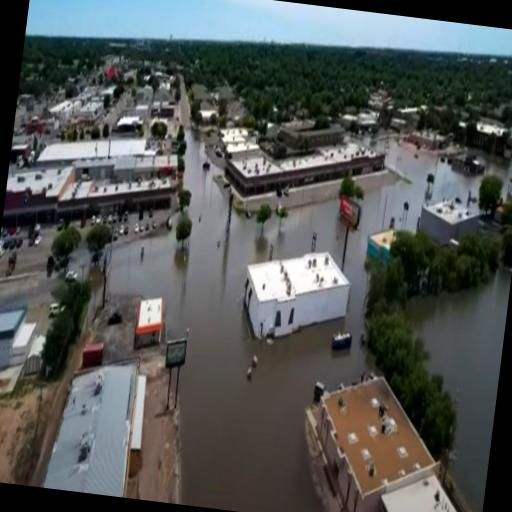flood: (109, 134, 436, 512), (407, 262, 512, 512), (361, 140, 437, 244), (433, 160, 482, 204), (185, 149, 203, 205), (497, 161, 512, 194)
house: (301, 365, 451, 512), (42, 346, 150, 498), (222, 125, 386, 214), (233, 238, 355, 354), (70, 138, 180, 202), (375, 462, 487, 512), (2, 160, 72, 233), (0, 295, 40, 399), (414, 195, 482, 255), (358, 220, 418, 286), (461, 115, 512, 162), (130, 293, 166, 353), (24, 334, 46, 382), (453, 150, 485, 182), (78, 98, 102, 128)
